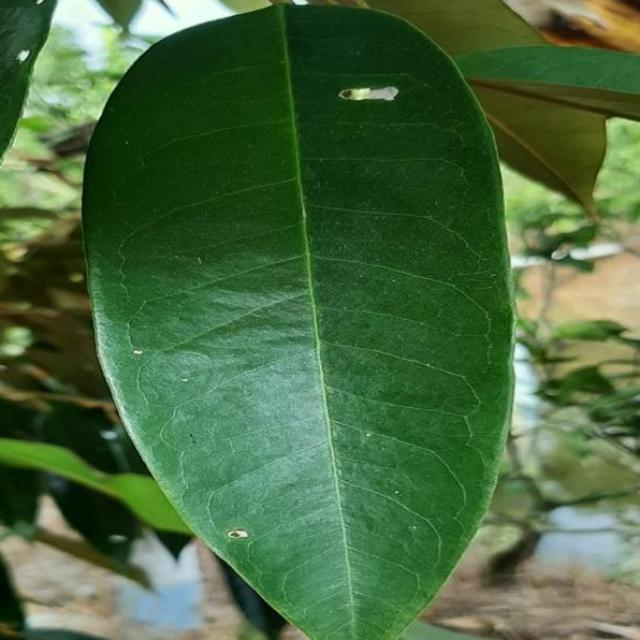No Disease: (63, 3, 539, 640)
